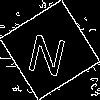N: (25, 25, 71, 77)
